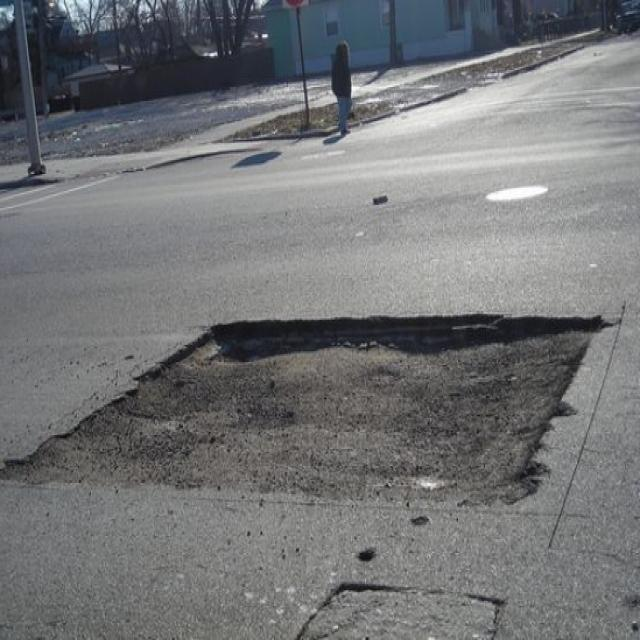pothole: (1, 303, 618, 511)
